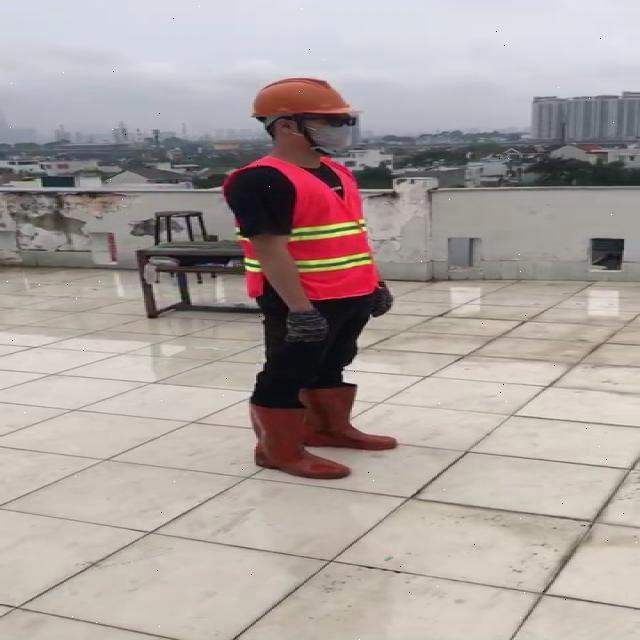Hard_hat: (241, 72, 363, 131)
Vest: (275, 155, 375, 303)
